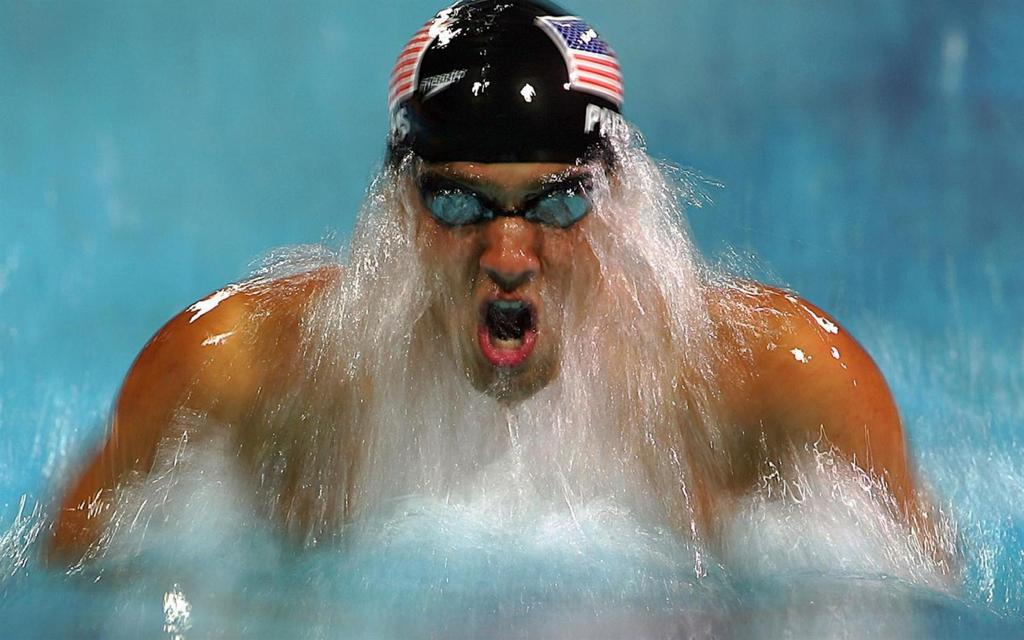face: (415, 123, 605, 405)
